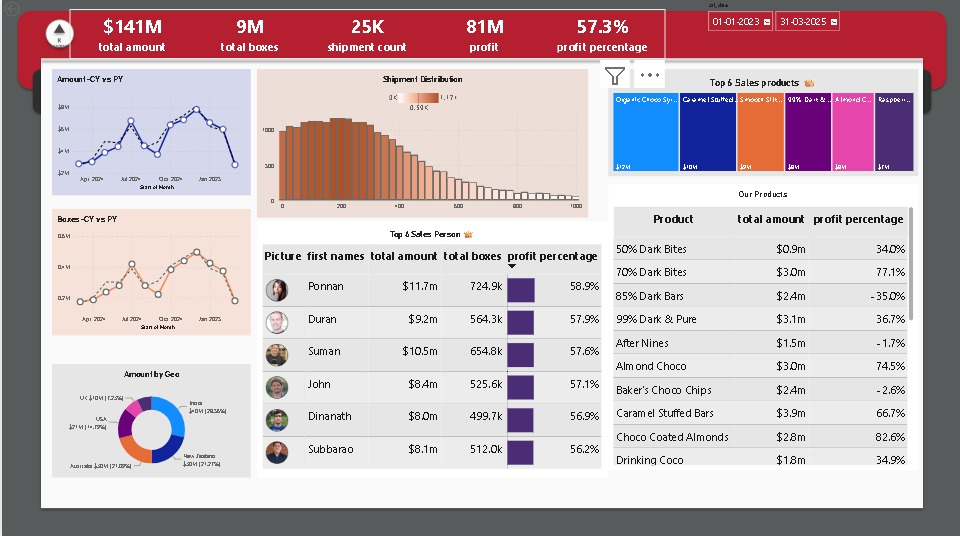

The dashboard page shown, as its layout file describes it:
{"tool":"powerbi","page":{"name":"dashbord","canvas":[1920,1080],"ordinal":0},"visuals":[{"type":"lineChart","title":" Amount-CY vs PY","fields":{"Y":["shipments.total amount","shipments.total amount(last year)"],"Category":["calendar.Start of Month"]},"box":[100,140,397.5,252.5],"z":0},{"type":"lineChart","title":"Boxes-CY vs PY","fields":{"Category":["calendar.Start of Month"],"Y":["shipments.total boxes","shipments.total boxes(last year)"]},"box":[100,420,397.5,252.5],"z":1000},{"type":"donutChart","title":"Amount by Geo","fields":{"Category":["locations.Geo"],"Y":["shipments.total amount"]},"box":[100,730,397.5,227.5],"z":2000},{"type":"clusteredColumnChart","title":"Shipment  Distribution","fields":{"Category":["shipments.Boxes (bins)"],"Y":["shipments.shipment count"]},"box":[510,140,662.5,297.5],"z":3000},{"type":"tableEx","title":"Top 6 Sales Person 👑 ","fields":{"Values":["people.Picture","people.first names","shipments.total amount","shipments.total boxes","shipments.profit percentage"]},"box":[510,446,702,512],"z":4000},{"type":"actionButton","box":[0,0,100,40],"z":5000},{"type":"treemap","title":"Top 6 Sales products 👑 ","fields":{"Group":["products.Product"],"Values":["shipments.total amount"]},"box":[1212,140,620,214],"z":6000},{"type":"tableEx","title":"Our Products ","fields":{"Values":["products.Product","shipments.total amount","shipments.profit percentage"]},"box":[1212,370,620,572],"z":7000},{"type":"cardVisual","fields":{"Data":["shipments.total amount","shipments.total boxes","shipments.shipment count","shipments.profit","shipments.profit percentage"]},"box":[135,20,1192,100],"z":8000},{"type":"slicer","fields":{"Values":["calendar.cal_date"]},"box":[1400,0,520,94],"z":9000}]}

Visuals, with their boxes in screenshot pixels (x1, y1, x2, y2), scaled from the page's 1920x1080 canvas onto the 960x536 screenshot:
" Amount-CY vs PY" lineChart: 50 69 249 195
"Boxes-CY vs PY" lineChart: 50 208 249 334
"Amount by Geo" donutChart: 50 362 249 475
"Shipment  Distribution" clusteredColumnChart: 255 69 586 217
"Top 6 Sales Person 👑 " tableEx: 255 221 606 475
actionButton: 0 0 50 20
"Top 6 Sales products 👑 " treemap: 606 69 916 176
"Our Products " tableEx: 606 184 916 468
cardVisual - shipments.total amount x shipments.total boxes: 68 10 664 60
slicer - calendar.cal_date: 700 0 959 47
